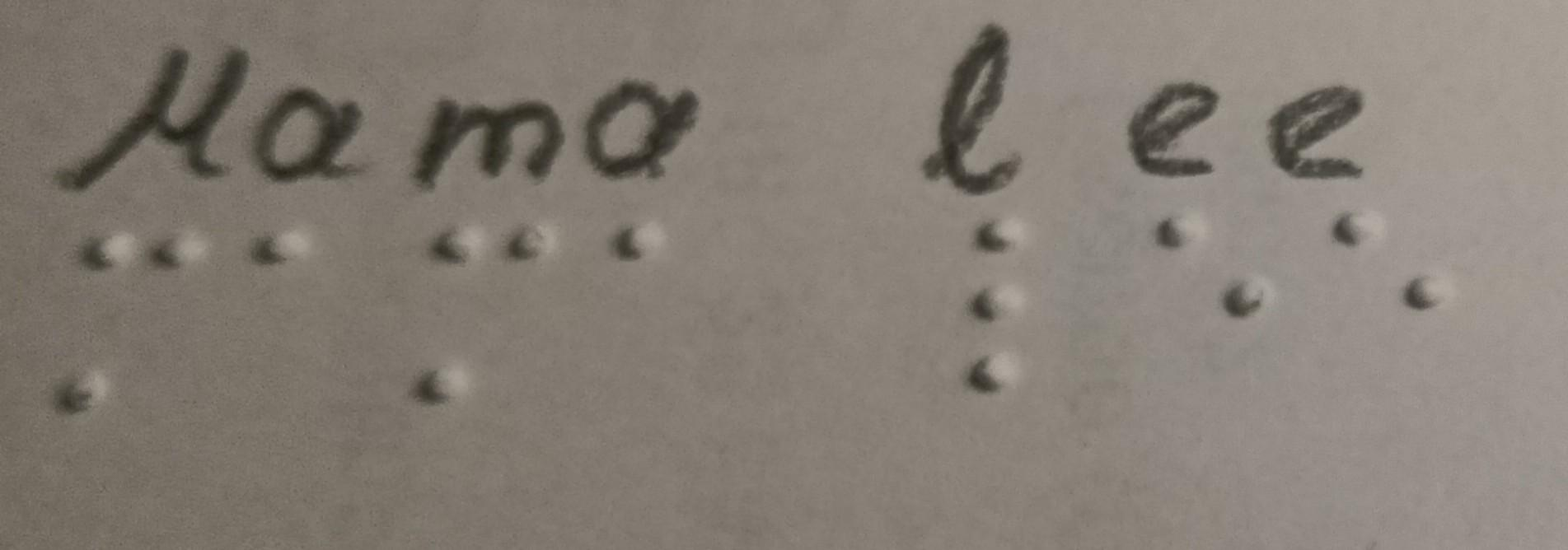a: (225, 206, 348, 282), (589, 204, 694, 280)
e: (1304, 187, 1456, 352), (1131, 179, 1273, 342)
l: (939, 206, 1069, 420)
m: (406, 210, 597, 426), (49, 212, 214, 436)
